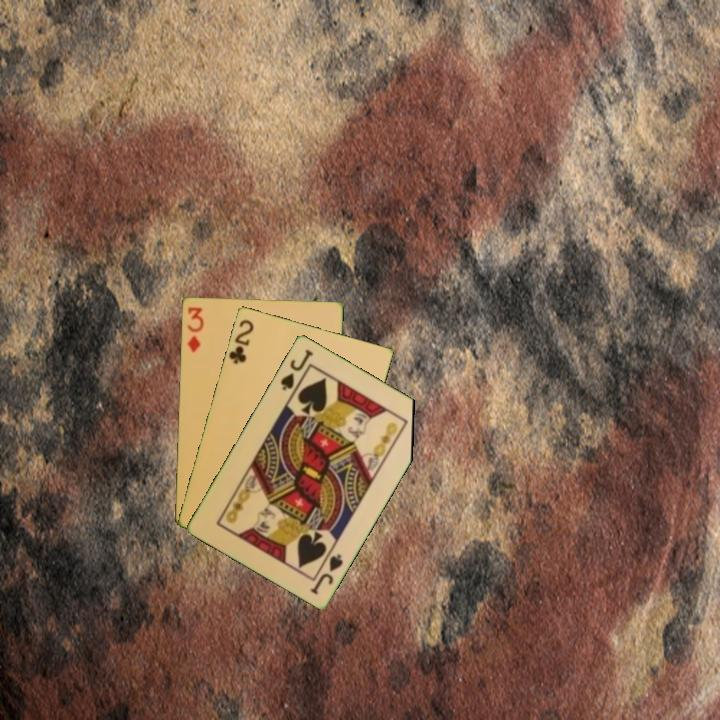2c: (225, 316, 256, 367)
3d: (183, 304, 206, 355)
Js: (306, 550, 346, 597), (277, 345, 316, 393)
